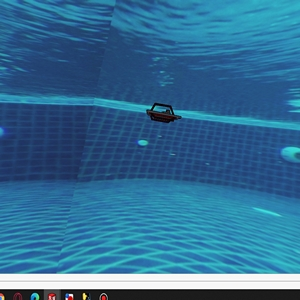submarine: (146, 103, 180, 122)
